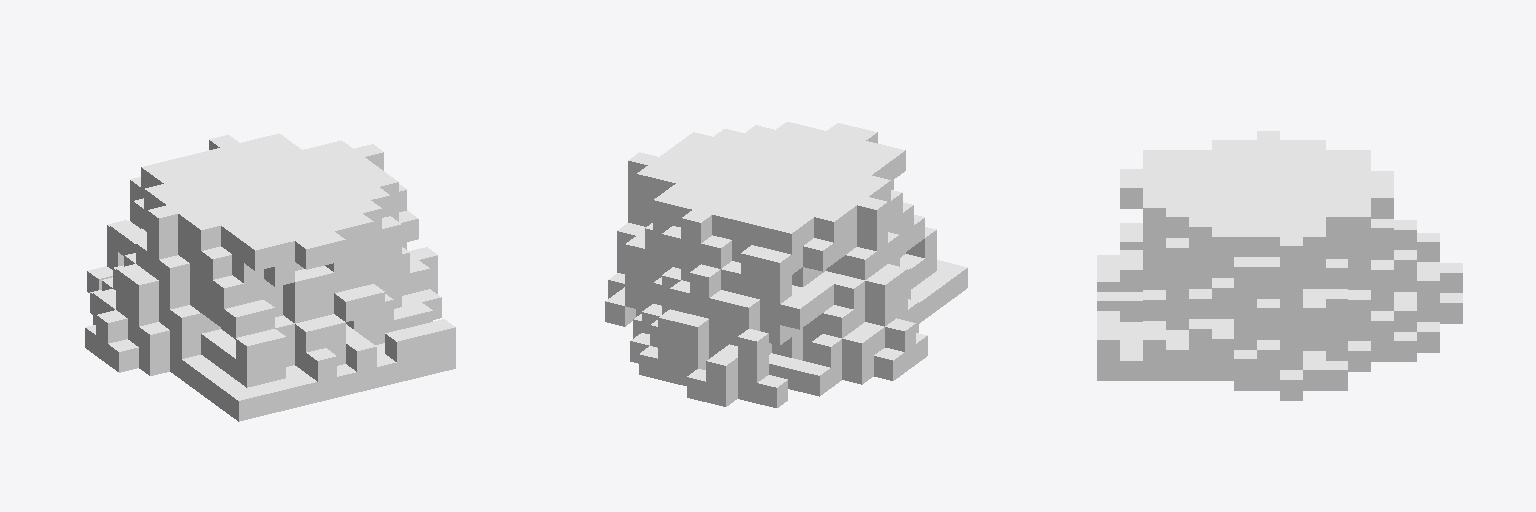
File: Rock_Last_OneThird.obj
The picture shows the model from 3 angles: view 1: azimuth 30°, elevation 25°; view 2: azimuth 150°, elevation 25°; view 3: azimuth 270°, elevation 25°; orthographic projection.
Visible parts, largest first — view 1: object 1; view 2: object 1; view 3: object 1.
Part boxes in pixels (bbox=[...]): object 1: bbox=[85, 133, 455, 421]; object 1: bbox=[605, 122, 967, 407]; object 1: bbox=[1097, 131, 1462, 400].
Bounding box in the file's own units: 1.5 × 0.7 × 1.6.